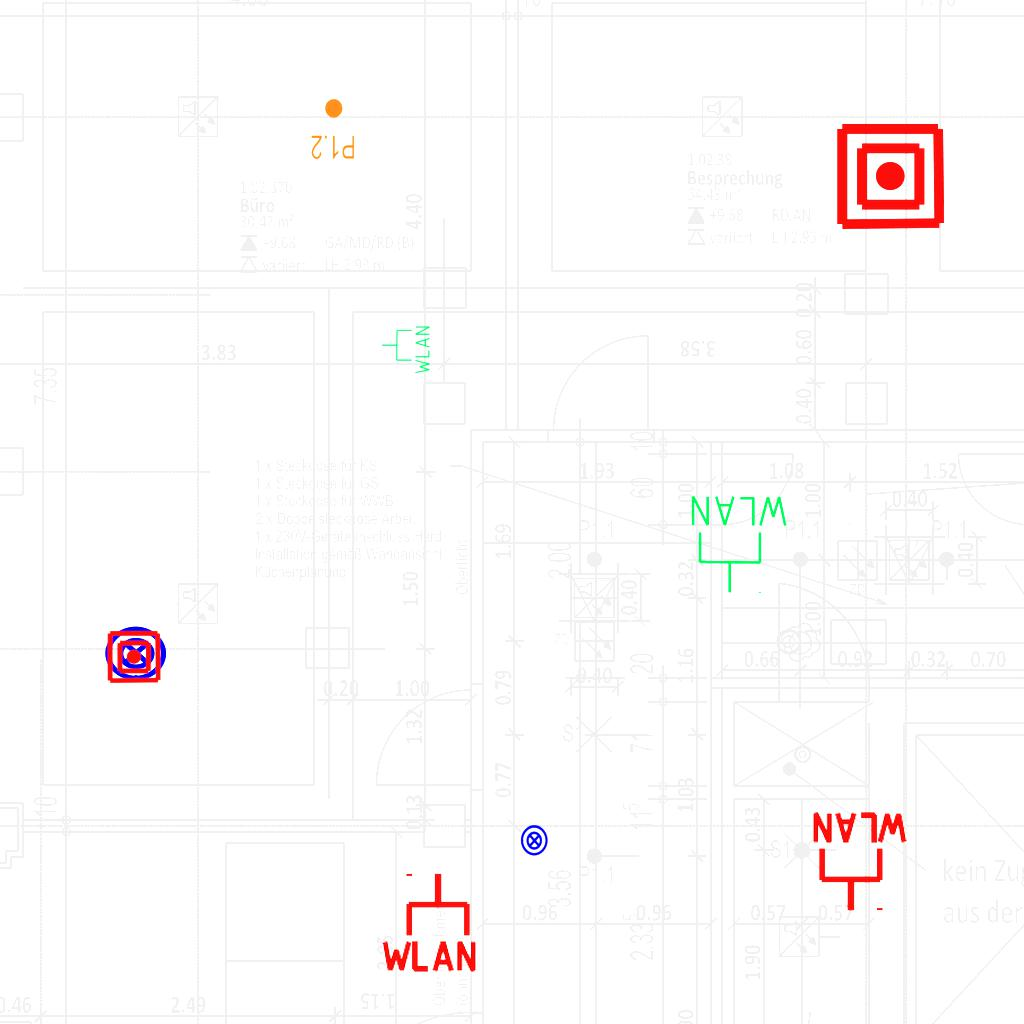Downlight_LED_Einbauleuchten_Flur: (310, 97, 356, 161)
NAM-Nichtautomatischer_Melder: (834, 120, 947, 233), (106, 629, 162, 685)
Taster_beleuchtet: (103, 620, 169, 686), (518, 824, 551, 857)
WLAN: (377, 869, 481, 974), (687, 492, 792, 596), (808, 810, 912, 915), (380, 324, 432, 376)
